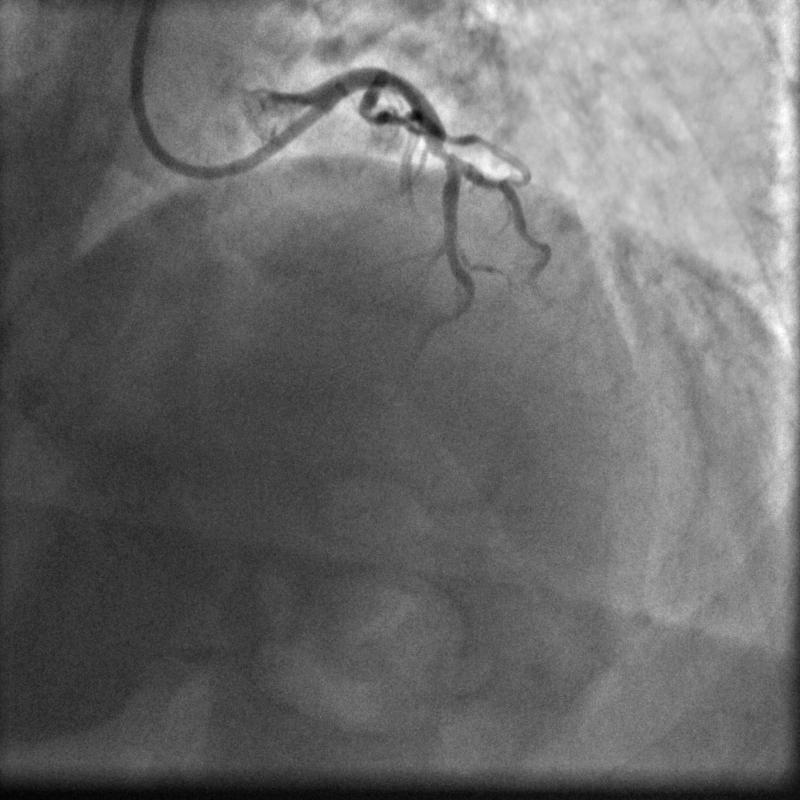Stenosis: (427, 142, 455, 162)
